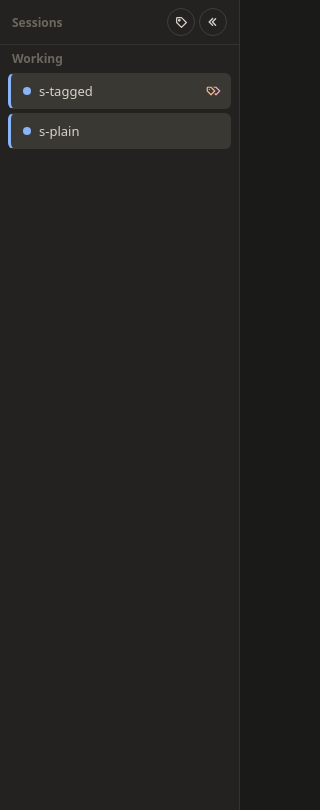
AttentionRail — tags (T-27, T-28) › "Show all tags" gives every tagged row a one-line chip row — and only while it is on
Step 1. Click the button with test id "rail-show-tags" → (181, 22), box [167,8,195,36]
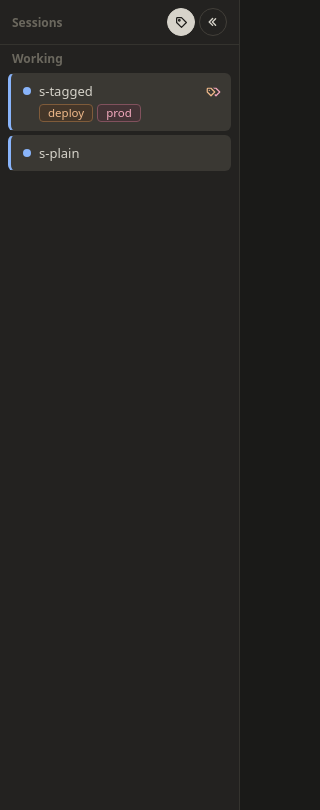
Result: the element with test id "rail-row-tags" is shown at [39,104,141,122]
Step 2. Click the button with test id "rail-show-tags" → (181, 22), box [167,8,195,36]
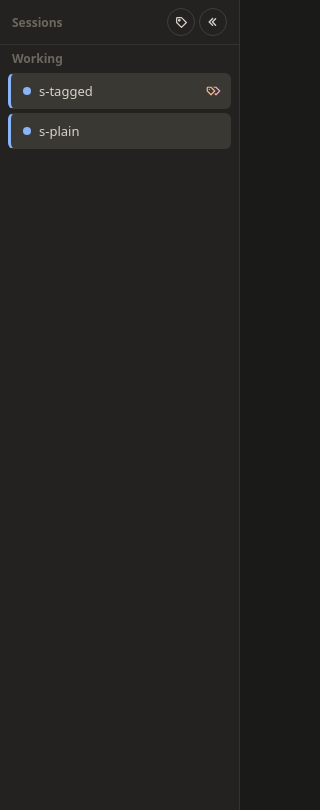
Result: the element with test id "rail-row-tags" is gone
